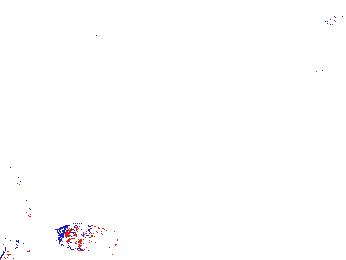X-ray fish: (51, 220, 117, 251)
red belly glassfish: (304, 63, 338, 80)
redtail glassfish: (2, 171, 33, 260)
